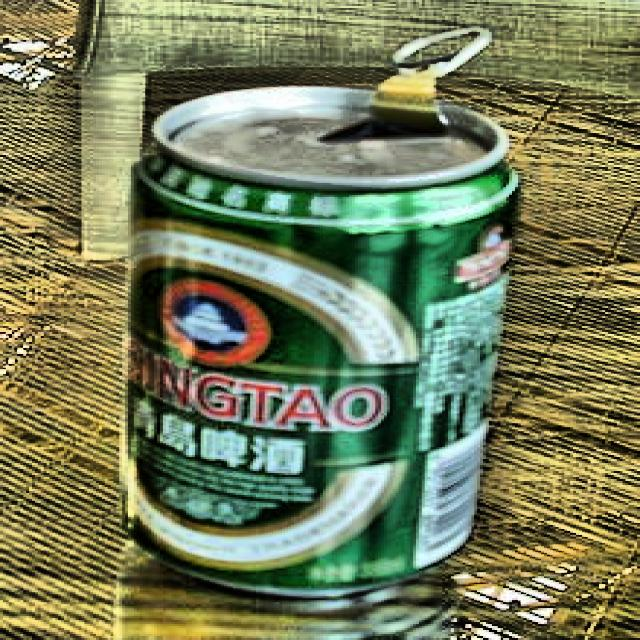can: (110, 11, 542, 594)
